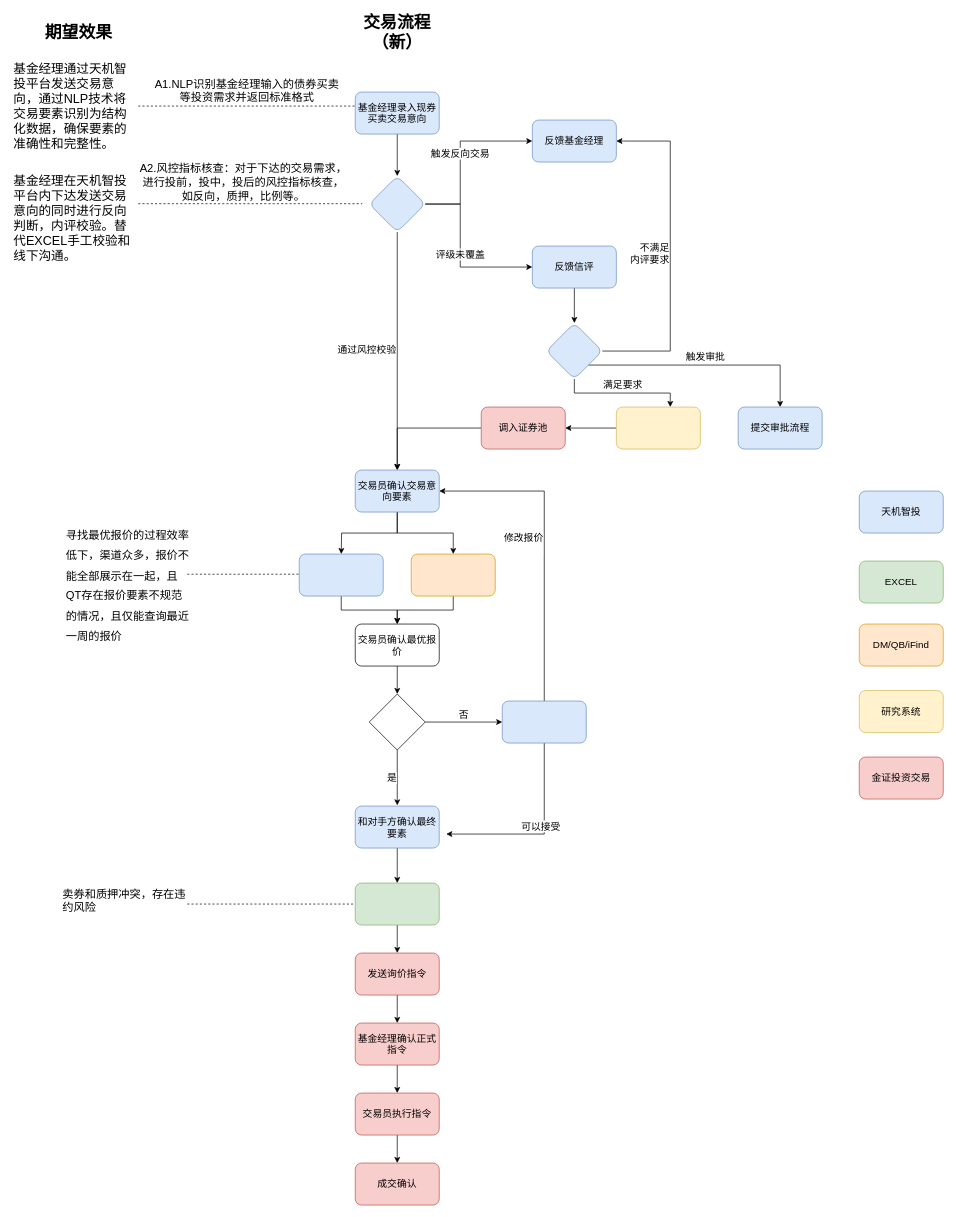
Some shapes in this 956 by 1217 pixel diagram are drawn without their labels. The shapes that lost their labels are listed below. From the top down, each one's centre as x and y in pixels, then its label:
At (397,203): "判断是否存在反向交易、内评是否 满足要求".
At (574,350): "内评是否 满足要求".
At (658,427): "覆盖评级".
At (341,574): "QT交谈报价".
At (453,574): "货币中介报价".
At (397,721): "是否在经理授权范围内".
At (544,721): "和基金经理确认当前最优报价是否可以接收".
At (397,903): "建立交易台账".
